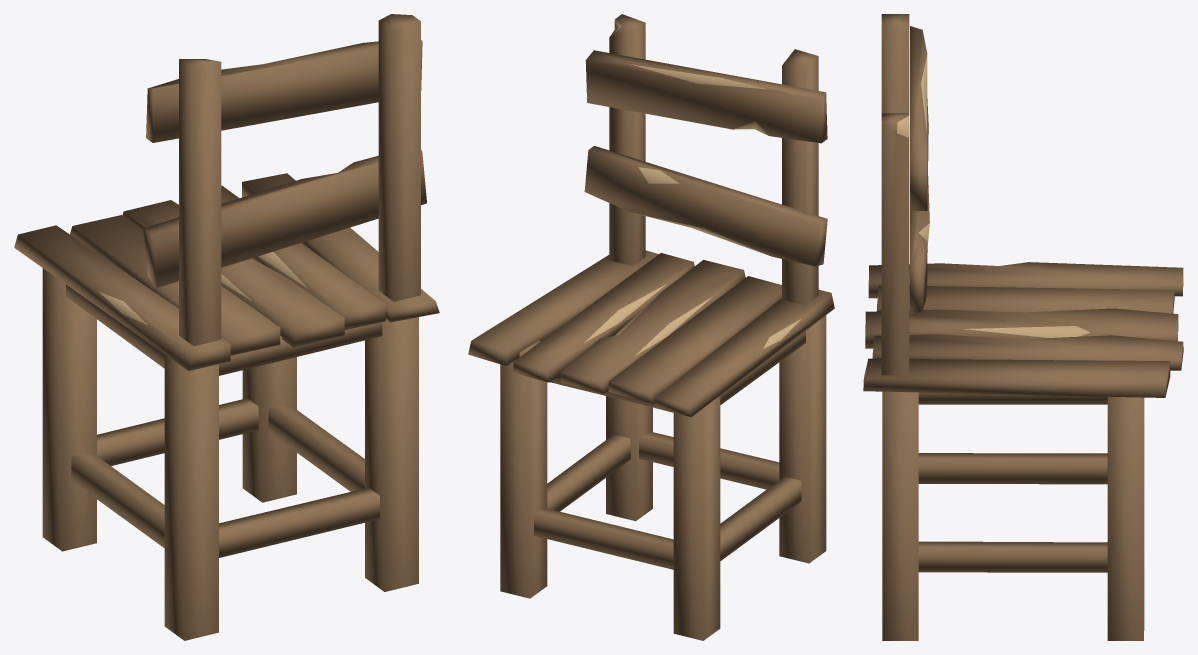
Rendered from rpgpp_lt_chair_01a -col.glb.
The picture shows the model from 3 angles, left to right: view 1: azimuth 30°, elevation 25°; view 2: azimuth 150°, elevation 25°; view 3: azimuth 270°, elevation 25°; orthographic projection. The views are drawn at different scales.
Parts seen in each view (by area): view 1: rpgpp_lt_chair_01a -col; view 2: rpgpp_lt_chair_01a -col; view 3: rpgpp_lt_chair_01a -col.
Part boxes in pixels (bbox=[...]): rpgpp_lt_chair_01a -col: bbox=[14, 14, 439, 640]; rpgpp_lt_chair_01a -col: bbox=[468, 14, 834, 640]; rpgpp_lt_chair_01a -col: bbox=[863, 14, 1183, 640].
Bounding box in the file's own units: 0.5815 × 1.14 × 0.6307.
1 material, 1 textured.
